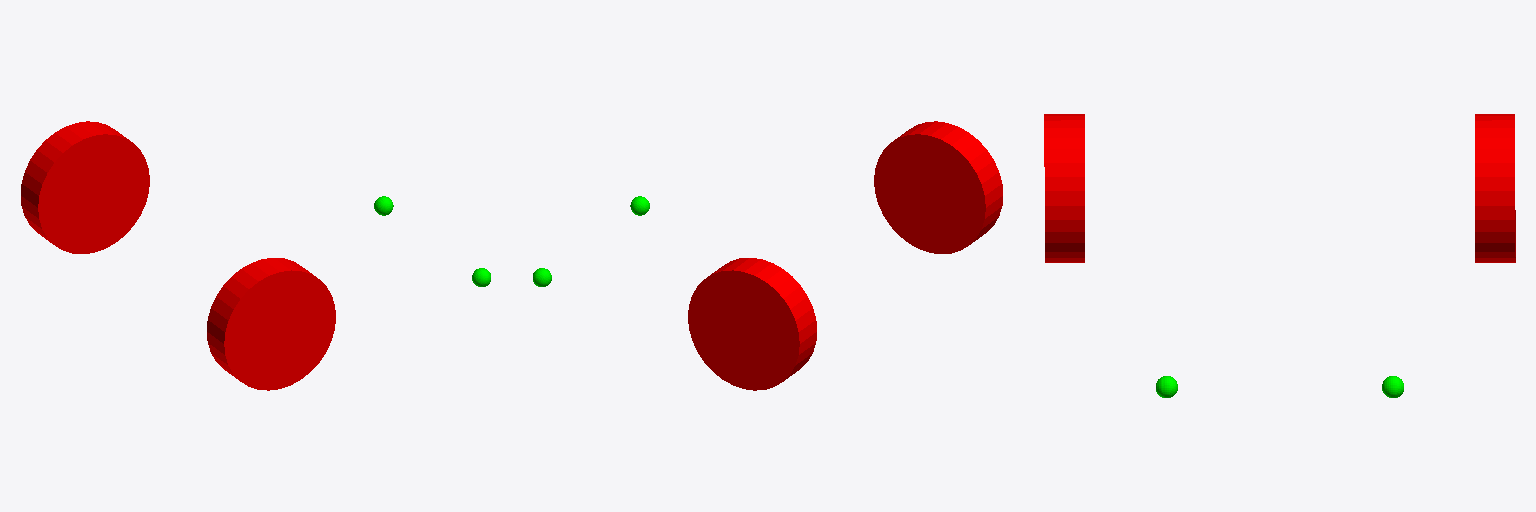
The robot description file, URDF, robot "demorobot":
<?xml version="1.0" ?>
<!-- =================================================================================== -->
<!-- |    This document was autogenerated by xacro from /home/hao/Ubuntu_3/Private/simulator/ros2_ws/src/gazebo_simulator/models/demorobot/urdf/demorobot.xacro | -->
<!-- |    EDITING THIS FILE BY HAND IS NOT RECOMMENDED                                 | -->
<!-- =================================================================================== -->
<robot name="demorobot">
  <!-- Base link -->
  <link name="base_link">
    <inertial>
      <pose>0.1 0 0 0 0 0</pose>
      <mass value="1.3729096"/>
      <inertia ixx="4.2111447e-02" ixy="0" ixz="0" iyy="4.2111447e-02" iyz="0" izz="7.5254874e-02"/>
    </inertial>
    <collision name="base_collision">
      <origin rpy="0 0 -1.57" xyz="-0.064 0.08 0.06"/>
      <geometry>
        <mesh filename="model://demorobot/meshes/2DRoboPrac.stl"/>
      </geometry>
    </collision>
    <visual name="base_visual">
      <origin rpy="0 0 -1.57" xyz="-0.064 0.08 0.06"/>
      <geometry>
        <mesh filename="model://demorobot/meshes/2DRoboPrac.dae"/>
      </geometry>
      <material name="base_material">
        <color rgba="0.921568627 0.925490196 0.941176471 1"/>
      </material>
    </visual>
  </link>
  <!-- Left wheel -->
  <link name="wheel_left_link">
    <inertial>
      <mass value="0.1"/>
      <inertia ixx="1.1175580e-05" ixy="-4.2369783e-11" ixz="-5.9381719e-09" iyy="1.1192413e-05" iyz="-1.4400107e-11" izz="2.0712558e-05"/>
    </inertial>
    <collision name="wheel_left_collision">
      <geometry>
        <cylinder length="0.018" radius="0.033"/>
      </geometry>
    </collision>
    <visual name="wheel_left_visual">
      <geometry>
        <cylinder length="0.018" radius="0.033"/>
      </geometry>
      <material name="wheel_material">
        <color rgba="1.0 0.0 0.0 1"/>
      </material>
    </visual>
  </link>
  <joint name="wheel_left_joint" type="continuous">
    <parent link="base_link"/>
    <child link="wheel_left_link"/>
    <origin rpy="-1.57 0 0" xyz="0.0 0.095 0.023"/>
    <axis xyz="0 0 1"/>
    <limit effort="10" velocity="10"/>
    <dynamics damping="0.0" friction="0.0"/>
  </joint>
  <!-- Right wheel -->
  <link name="wheel_right_link">
    <inertial>
      <mass value="0.1"/>
      <inertia ixx="1.1175580e-05" ixy="-4.2369783e-11" ixz="-5.9381719e-09" iyy="1.1192413e-05" iyz="-1.4400107e-11" izz="2.0712558e-05"/>
    </inertial>
    <collision name="wheel_right_collision">
      <geometry>
        <cylinder length="0.018" radius="0.033"/>
      </geometry>
    </collision>
    <visual name="wheel_right_visual">
      <geometry>
        <cylinder length="0.018" radius="0.033"/>
      </geometry>
      <material name="wheel_material">
        <color rgba="1.0 0.0 0.0 1"/>
      </material>
    </visual>
  </link>
  <joint name="wheel_right_joint" type="continuous">
    <parent link="base_link"/>
    <child link="wheel_right_link"/>
    <origin rpy="-1.57 0 0" xyz="0.0 -0.095 0.023"/>
    <axis xyz="0 0 1"/>
    <limit effort="10" velocity="10"/>
    <dynamics damping="0.0" friction="0.0"/>
  </joint>
  <!-- Caster wheels (back right) -->
  <link name="caster_back_right_link">
    <inertial>
      <mass value="0.001"/>
      <inertia ixx="0.00001" ixy="0.000" ixz="0.000" iyy="0.00001" iyz="0.000" izz="0.00001"/>
    </inertial>
    <collision name="caster_back_right_collision">
      <geometry>
        <sphere radius="0.005"/>
      </geometry>
    </collision>
    <visual name="caster_back_right_visual">
      <geometry>
        <sphere radius="0.005"/>
      </geometry>
      <material name="caster_material">
        <color rgba="0.0 1.0 0.0 1"/>
      </material>
    </visual>
  </link>
  <joint name="caster_back_right_joint" type="fixed">
    <parent link="base_link"/>
    <child link="caster_back_right_link"/>
    <origin rpy="-1.57 0 0" xyz="0.15 -0.05 -0.004"/>
    <axis xyz="0 0 1"/>
    <limit effort="10" lower="-30.14159" upper="30.14159" velocity="100"/>
  </joint>
  <!-- Caster wheels (back left) -->
  <link name="caster_back_left_link">
    <inertial>
      <mass value="0.001"/>
      <inertia ixx="0.00001" ixy="0.000" ixz="0.000" iyy="0.00001" iyz="0.000" izz="0.00001"/>
    </inertial>
    <collision name="caster_back_left_collision">
      <geometry>
        <sphere radius="0.005"/>
      </geometry>
    </collision>
    <visual name="caster_back_left_visual">
      <geometry>
        <sphere radius="0.005"/>
      </geometry>
      <material name="caster_material">
        <color rgba="0.0 1.0 0.0 1"/>
      </material>
    </visual>
  </link>
  <joint name="caster_back_left_joint" type="fixed">
    <parent link="base_link"/>
    <child link="caster_back_left_link"/>
    <origin rpy="-1.57 0 0" xyz="0.15 0.05 -0.004"/>
    <axis xyz="0 0 1"/>
    <limit effort="10" lower="-30.14159" upper="30.14159" velocity="100"/>
  </joint>
  <!-- ros2_control plugin config -->
  <ros2_control name="GazeboSystem" type="system">
    <hardware>
      <plugin>gz_ros2_control/GazeboSimSystem</plugin>
    </hardware>
    <joint name="wheel_left_joint">
      <command_interface name="velocity">
        <!-- これ↓いみない制限やわ -->
        <!-- <param name="min">-10</param>
        <param name="max">10</param> -->
      </command_interface>
      <state_interface name="position"/>
      <state_interface name="velocity"/>
    </joint>
    <joint name="wheel_right_joint">
      <command_interface name="velocity">
        <!-- これ↓いみない制限やわ -->
        <!-- <param name="min">-10</param>
        <param name="max">10</param> -->
      </command_interface>
      <state_interface name="position"/>
      <state_interface name="velocity"/>
    </joint>
  </ros2_control>
  <gazebo>
    <plugin filename="libgz_ros2_control-system.so" name="gz_ros2_control::GazeboSimROS2ControlPlugin">
      <parameters>/home/hao/Ubuntu_3/Private/simulator/ros2_ws/install/gazebo_simulator/share/gazebo_simulator/config/controller_demorobot.yaml</parameters>
    </plugin>
  </gazebo>
</robot>

--- Facts derived from the render (not from the file) ---
Views: 3 orthographic renders of the robot side by side, from view 1: azimuth 30°, elevation 25°; view 2: azimuth 150°, elevation 25°; view 3: azimuth 270°, elevation 25°.
Model demorobot with 5 links and 4 joints (2 continuous, 2 fixed), rooted at base_link, posed all joints at 0.
Visible links, largest first — view 1: wheel_right_link, wheel_left_link; view 2: wheel_left_link, wheel_right_link; view 3: wheel_left_link, wheel_right_link.
Link boxes in pixels (x1=…): wheel_right_link: x1=207, y1=258, x2=335, y2=390; wheel_left_link: x1=21, y1=121, x2=149, y2=253; wheel_left_link: x1=688, y1=258, x2=816, y2=390; wheel_right_link: x1=874, y1=121, x2=1002, y2=253; wheel_left_link: x1=1475, y1=114, x2=1515, y2=262; wheel_right_link: x1=1044, y1=114, x2=1084, y2=262.
Size in the robot's own frame: 0.188 by 0.2081 by 0.066 metres.
0 mesh visuals loaded from 1 distinct referenced files (none loaded); not drawn: 1 (reference not matched to a file when rendering).
